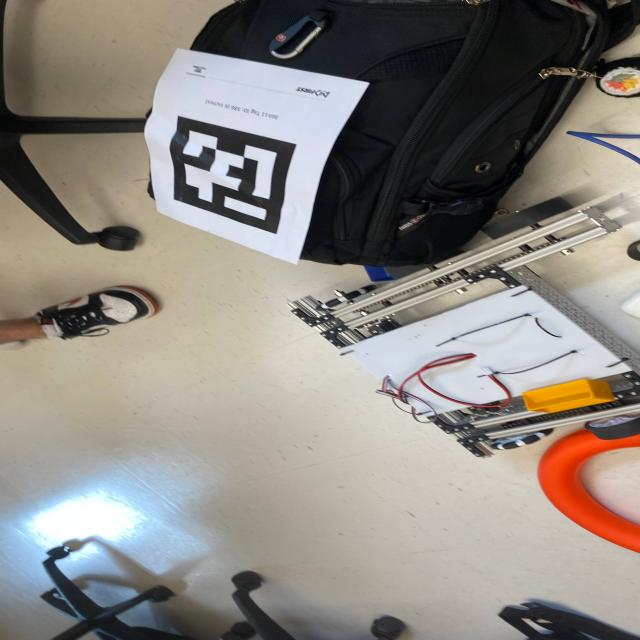blue-specimen: (367, 268, 390, 279)
yellow-specimen: (522, 379, 614, 413)
